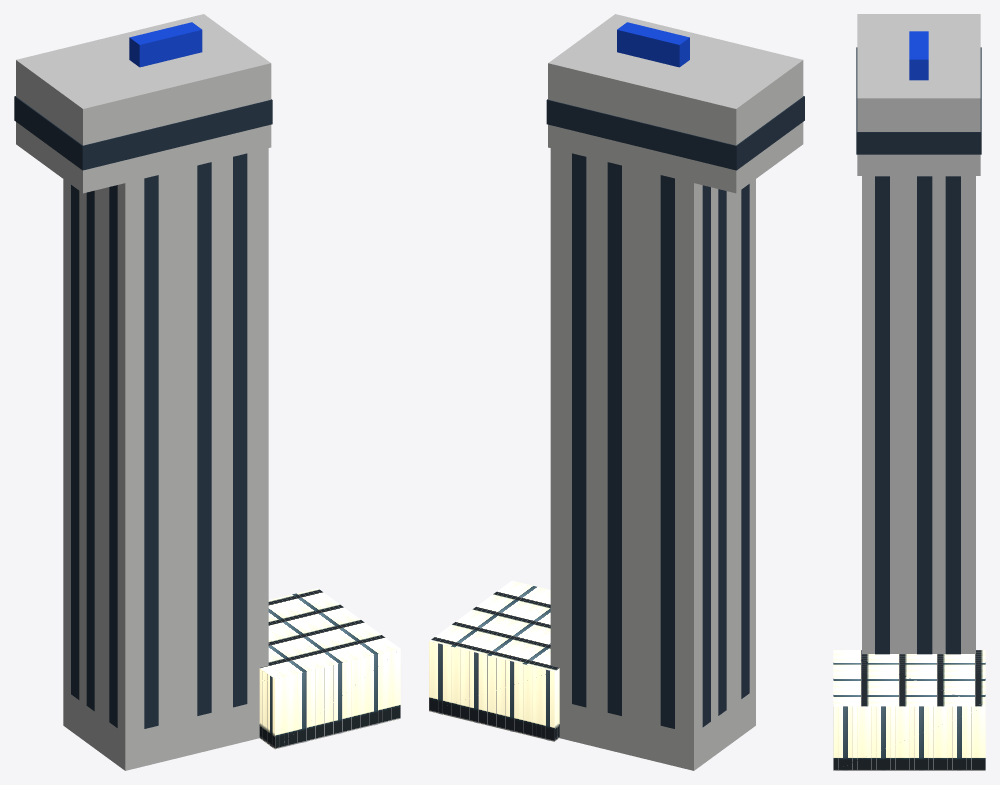
The model's file is tow.glb.
3 views of the same model, side by side, from view 1: azimuth 30°, elevation 25°; view 2: azimuth 150°, elevation 25°; view 3: azimuth 270°, elevation 25° (orthographic). The views are drawn at different scales.
Visible parts, largest first — view 1: Tower shaft block, Tower glazing strips, Tower head, Tower lobby podium, Tower head band, Tower KONE sign; view 2: Tower shaft block, Tower glazing strips, Tower head, Tower lobby podium, Tower head band, Tower KONE sign; view 3: Tower shaft block, Tower glazing strips, Tower lobby podium, Tower head, Tower head band, Tower KONE sign.
Boxes of the visible parts, bbox=[...] form: Tower shaft block: bbox=[63, 16, 268, 770]; Tower glazing strips: bbox=[71, 153, 247, 728]; Tower head: bbox=[16, 14, 271, 193]; Tower lobby podium: bbox=[259, 588, 400, 749]; Tower head band: bbox=[14, 96, 272, 170]; Tower KONE sign: bbox=[129, 22, 202, 67]; Tower shaft block: bbox=[550, 16, 755, 770]; Tower glazing strips: bbox=[572, 153, 749, 728]; Tower head: bbox=[548, 14, 803, 193]; Tower lobby podium: bbox=[429, 580, 559, 741]; Tower head band: bbox=[546, 96, 804, 170]; Tower KONE sign: bbox=[617, 22, 689, 67]; Tower shaft block: bbox=[862, 34, 975, 653]; Tower glazing strips: bbox=[875, 176, 960, 654]; Tower lobby podium: bbox=[833, 650, 985, 770]; Tower head: bbox=[857, 14, 980, 175]; Tower head band: bbox=[856, 47, 981, 154]; Tower KONE sign: bbox=[909, 31, 928, 80].
Size of the model in its own units: 34.1 by 74.4 by 16.
Materials: 4 (1 with a texture image).
